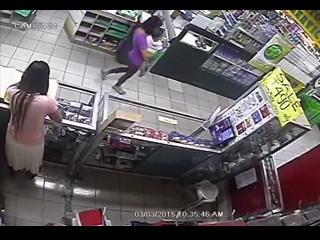Normal: (4, 60, 64, 180), (99, 16, 163, 96)
